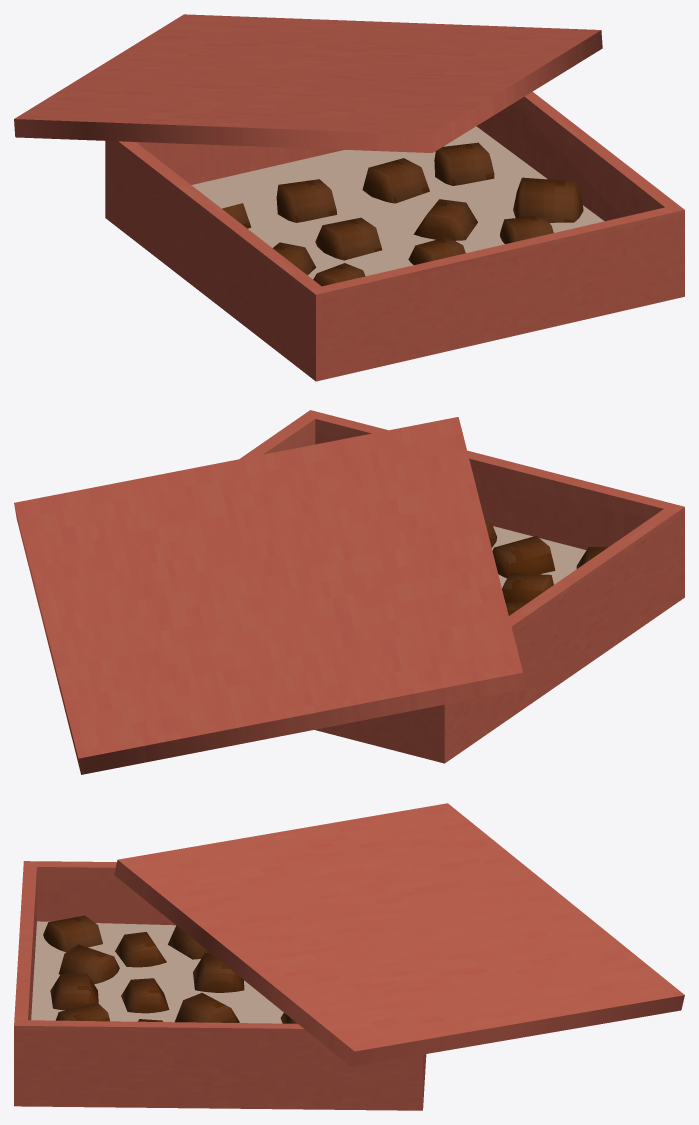
File: Box_Chocolate.fbx
3 views of the same model, one above another, from view 1: azimuth 30°, elevation 25°; view 2: azimuth 150°, elevation 25°; view 3: azimuth 270°, elevation 25° (orthographic). The views are drawn at different scales.
Parts seen in each view (by area): view 1: BonbonBox; view 2: BonbonBox; view 3: BonbonBox.
Part boxes in pixels (bbox=[...]): BonbonBox: bbox=[14, 14, 684, 381]; BonbonBox: bbox=[14, 410, 684, 774]; BonbonBox: bbox=[14, 803, 684, 1110].
Size of the model in its own units: 75.14 by 22.61 by 87.44.
